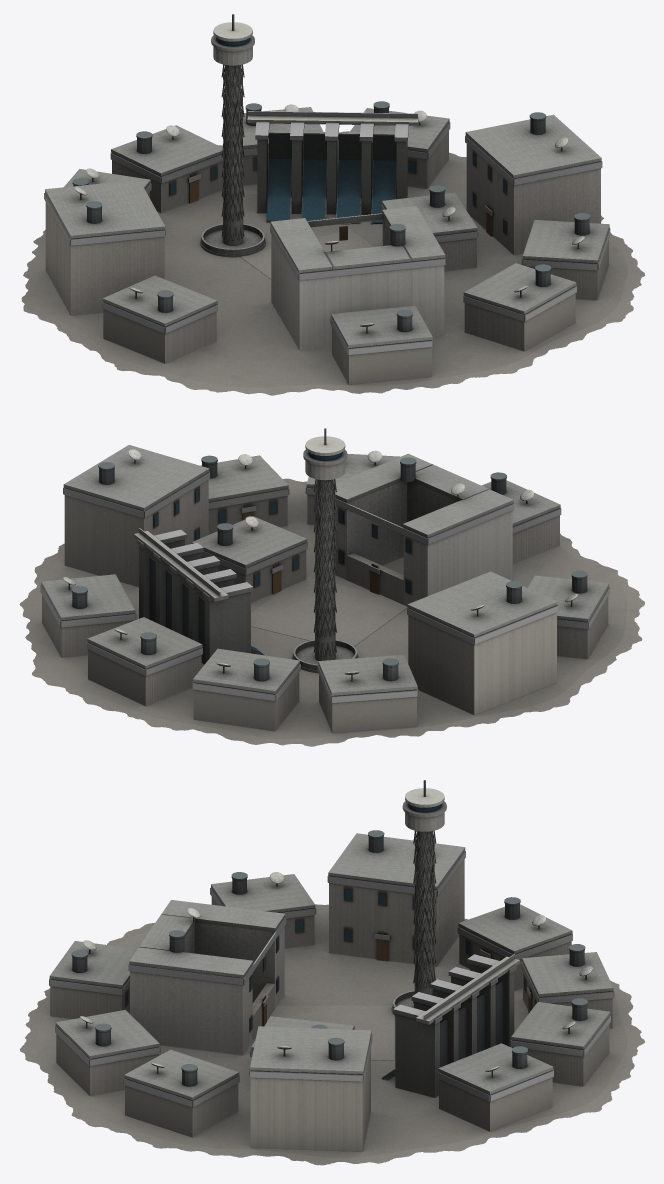
Rendered from modern-town-medium-a-nile.glb.
3 renders of one model, top to bottom at view 1: azimuth 30°, elevation 25°; view 2: azimuth 150°, elevation 25°; view 3: azimuth 270°, elevation 25°, orthographic.
Parts seen in each view (by area): view 1: LOD0; view 2: LOD0; view 3: LOD0.
Part boxes in pixels (left/top/right/bottom): LOD0: left=21, top=14, right=644, bottom=395; LOD0: left=19, top=428, right=644, bottom=746; LOD0: left=20, top=780, right=644, bottom=1165.
Size of what is drawn, in the model's own units: 5.96 by 2.4 by 5.95.
Materials: 3 (3 with a texture image).
